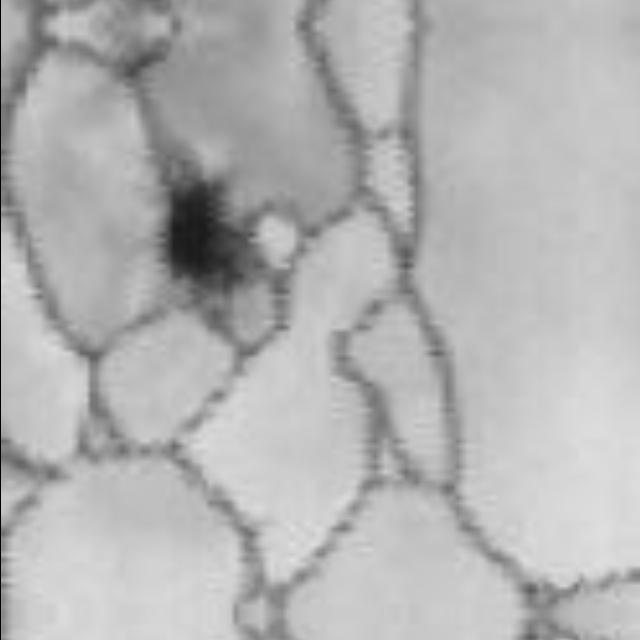good_void: (125, 158, 264, 309)
